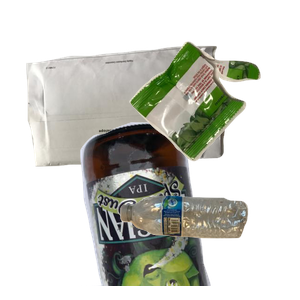glass: (78, 120, 281, 300)
paper: (24, 43, 242, 202)
plastic: (118, 193, 300, 300)
trash: (127, 39, 300, 193)
